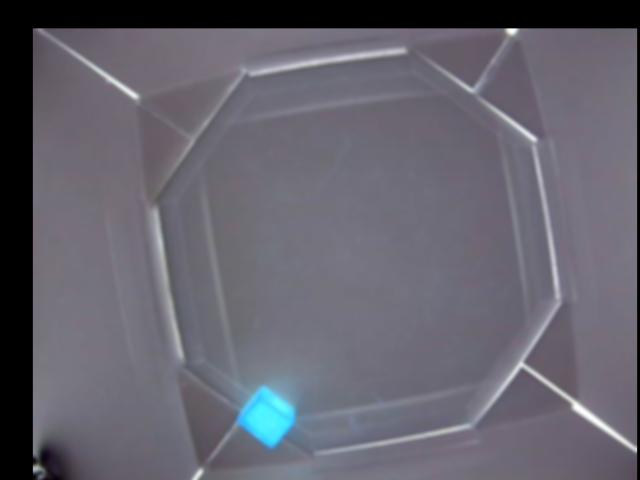Carrot: (240, 385, 297, 449)
